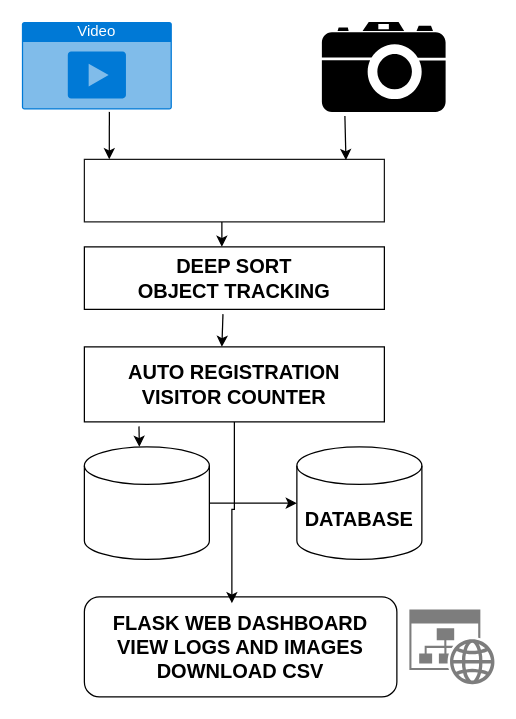
The diagram is 516 pixels wide and 719 high, and some of its shapes have lost their labels. The shapes that lost their labels are listed below. From the top down, each one's box as (x1, y1, x2, y2) in pixels, then its label:
(83, 158, 384, 222): YOLOV8 FACE DETECTION
(83, 446, 209, 559): CSV LOG FILE
